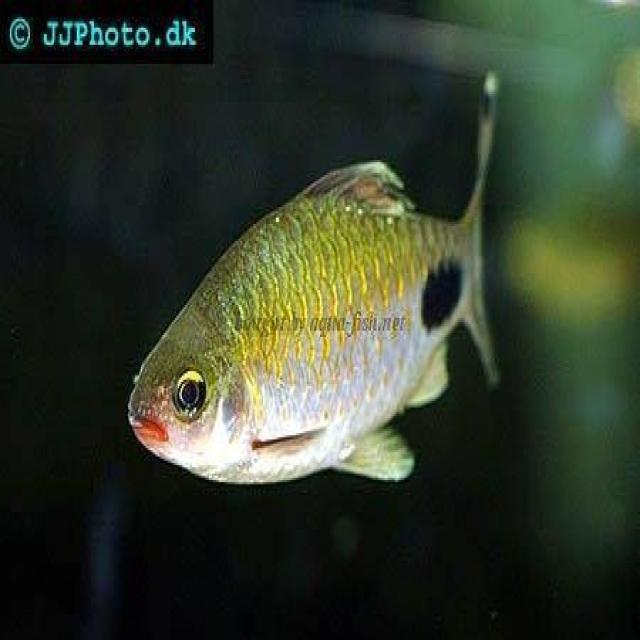Black-Spotted-Barb: (100, 70, 568, 536)
